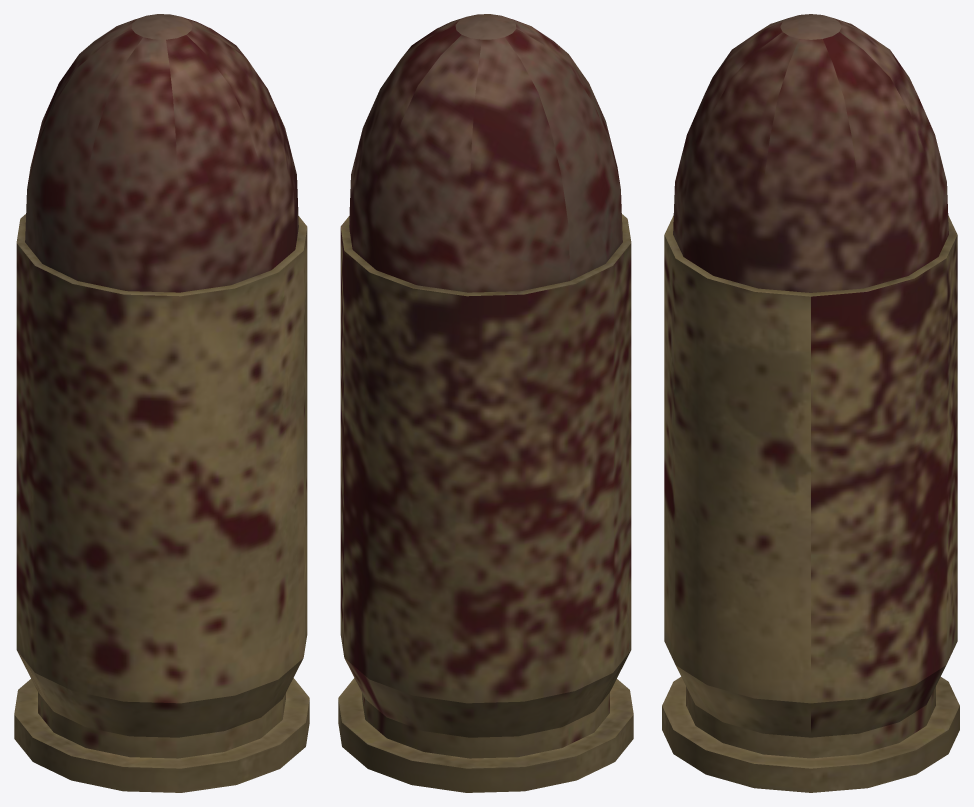
The model's file is 45acp_blood.glb.
The picture shows the model from 3 angles, left to right: view 1: azimuth 30°, elevation 25°; view 2: azimuth 150°, elevation 25°; view 3: azimuth 270°, elevation 25°; orthographic projection.
Parts seen in each view (by area): view 1: 45acp_blood; view 2: 45acp_blood; view 3: 45acp_blood.
Part boxes in pixels (x1,y1,x2,y2): 45acp_blood: (14, 14, 309, 792); 45acp_blood: (338, 14, 633, 792); 45acp_blood: (662, 14, 959, 792).
Size of the model in its own units: 0.186 by 0.4882 by 0.186.
1 material, 1 textured.
